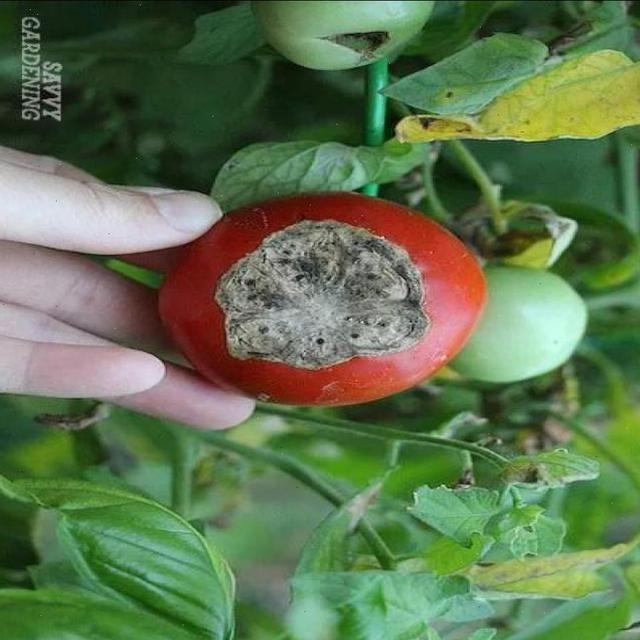Blossom End Rot Fruit: (57, 25, 238, 194)
